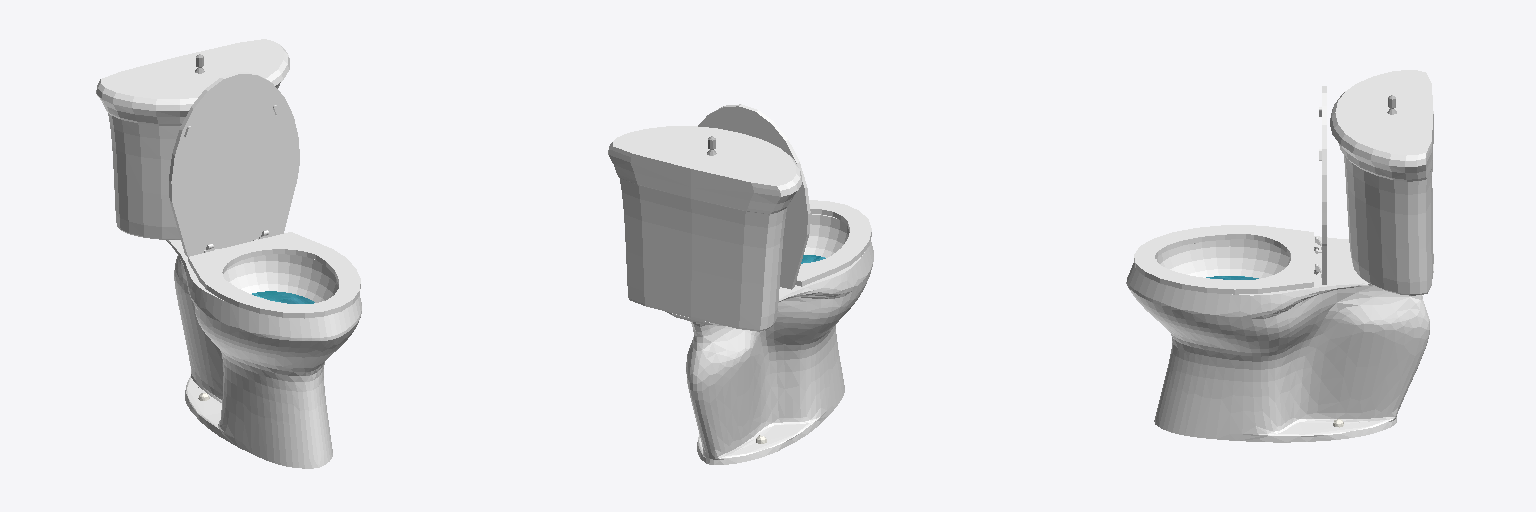
3 renders of one model, left to right at view 1: azimuth 30°, elevation 25°; view 2: azimuth 150°, elevation 25°; view 3: azimuth 270°, elevation 25°, orthographic.
Visible parts, largest first — view 1: Mesh18 Toilet_2009_1 DYNAMIC_toilet1 Model, Mesh15 Group16 Group13 Group12 toilet_lid1 Toilet_2009_1 DYNAMIC, Mesh1 Group1 Toilet_2009_1 DYNAMIC_toilet1 Model, Mesh6 Group7 Group6 Group5 toilet_seat1 Toilet_2009_1 DYNAMIC_to; view 2: Mesh1 Group1 Toilet_2009_1 DYNAMIC_toilet1 Model, Mesh18 Toilet_2009_1 DYNAMIC_toilet1 Model, Mesh15 Group16 Group13 Group12 toilet_lid1 Toilet_2009_1 DYNAMIC, Mesh6 Group7 Group6 Group5 toilet_seat1 Toilet_2009_1 DYNAMIC_to; view 3: Mesh18 Toilet_2009_1 DYNAMIC_toilet1 Model, Mesh1 Group1 Toilet_2009_1 DYNAMIC_toilet1 Model, Mesh6 Group7 Group6 Group5 toilet_seat1 Toilet_2009_1 DYNAMIC_to, Mesh15 Group16 Group13 Group12 toilet_lid1 Toilet_2009_1 DYNAMIC.
Part boxes in pixels (left/top/right/bottom): Mesh18 Toilet_2009_1 DYNAMIC_toilet1 Model: left=166, top=240, right=361, bottom=468; Mesh15 Group16 Group13 Group12 toilet_lid1 Toilet_2009_1 DYNAMIC: left=169, top=72, right=299, bottom=256; Mesh1 Group1 Toilet_2009_1 DYNAMIC_toilet1 Model: left=96, top=39, right=289, bottom=239; Mesh6 Group7 Group6 Group5 toilet_seat1 Toilet_2009_1 DYNAMIC_to: left=188, top=232, right=360, bottom=318; Mesh1 Group1 Toilet_2009_1 DYNAMIC_toilet1 Model: left=608, top=126, right=801, bottom=331; Mesh18 Toilet_2009_1 DYNAMIC_toilet1 Model: left=665, top=214, right=873, bottom=464; Mesh15 Group16 Group13 Group12 toilet_lid1 Toilet_2009_1 DYNAMIC: left=698, top=104, right=810, bottom=289; Mesh6 Group7 Group6 Group5 toilet_seat1 Toilet_2009_1 DYNAMIC_to: left=795, top=200, right=871, bottom=286; Mesh18 Toilet_2009_1 DYNAMIC_toilet1 Model: left=1126, top=236, right=1433, bottom=442; Mesh1 Group1 Toilet_2009_1 DYNAMIC_toilet1 Model: left=1330, top=70, right=1433, bottom=295; Mesh6 Group7 Group6 Group5 toilet_seat1 Toilet_2009_1 DYNAMIC_to: left=1134, top=225, right=1313, bottom=294; Mesh15 Group16 Group13 Group12 toilet_lid1 Toilet_2009_1 DYNAMIC: left=1322, top=86, right=1326, bottom=284.
Bounding box in the file's own units: 0.5048 × 0.8656 × 0.7273.
Materials: 7 (1 with a texture image).